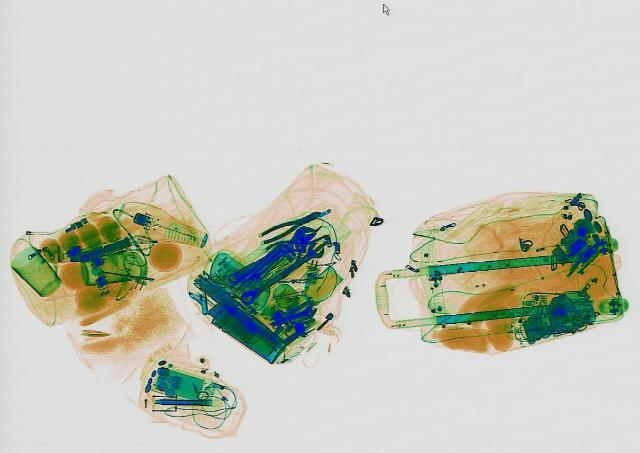Pliers: (254, 205, 326, 244)
Wrench: (216, 223, 322, 286), (234, 240, 330, 305), (286, 296, 318, 314)
